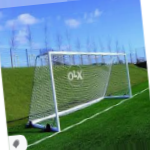goals: (27, 49, 133, 130)
